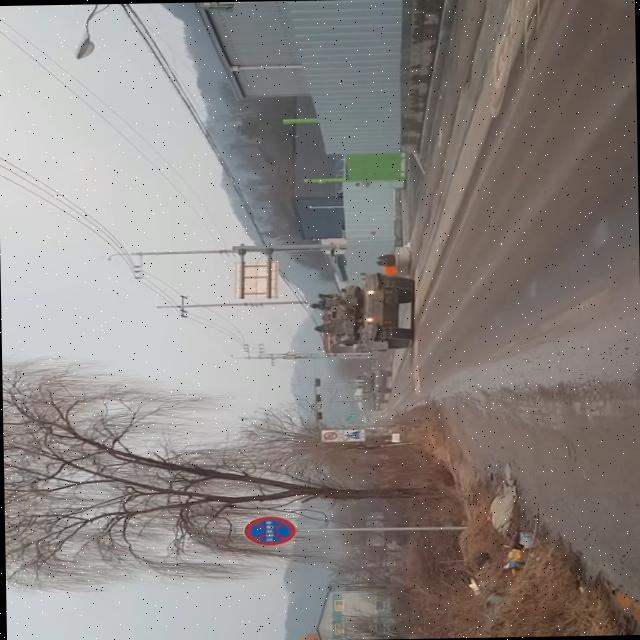korea tank: (303, 270, 417, 356)
